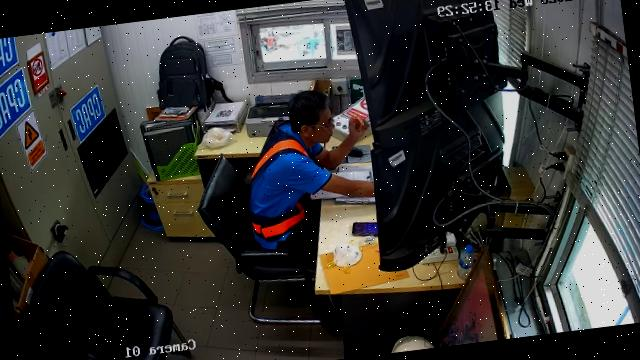Head: (285, 85, 336, 146)
People: (249, 91, 374, 264)
